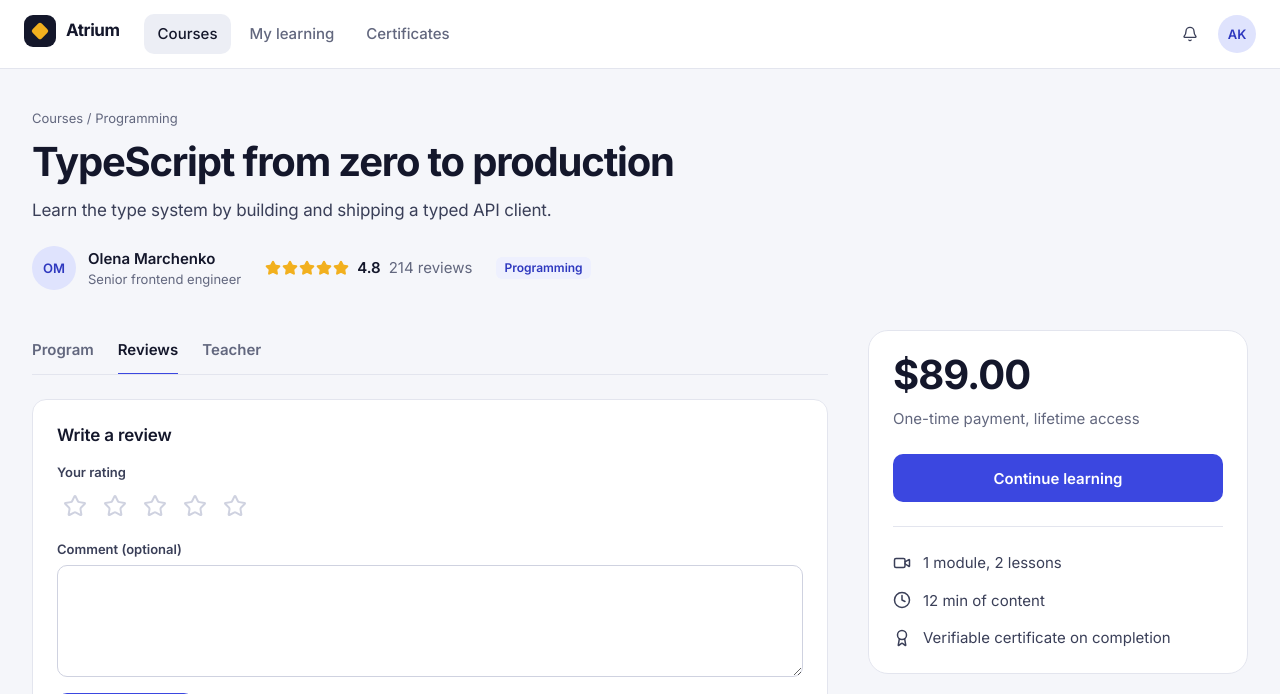
it: course reviews › shows the API message when the student has not started learning
Click the radio button named "4 stars": [195, 506] box [177,488,213,524]
(page scrolled)
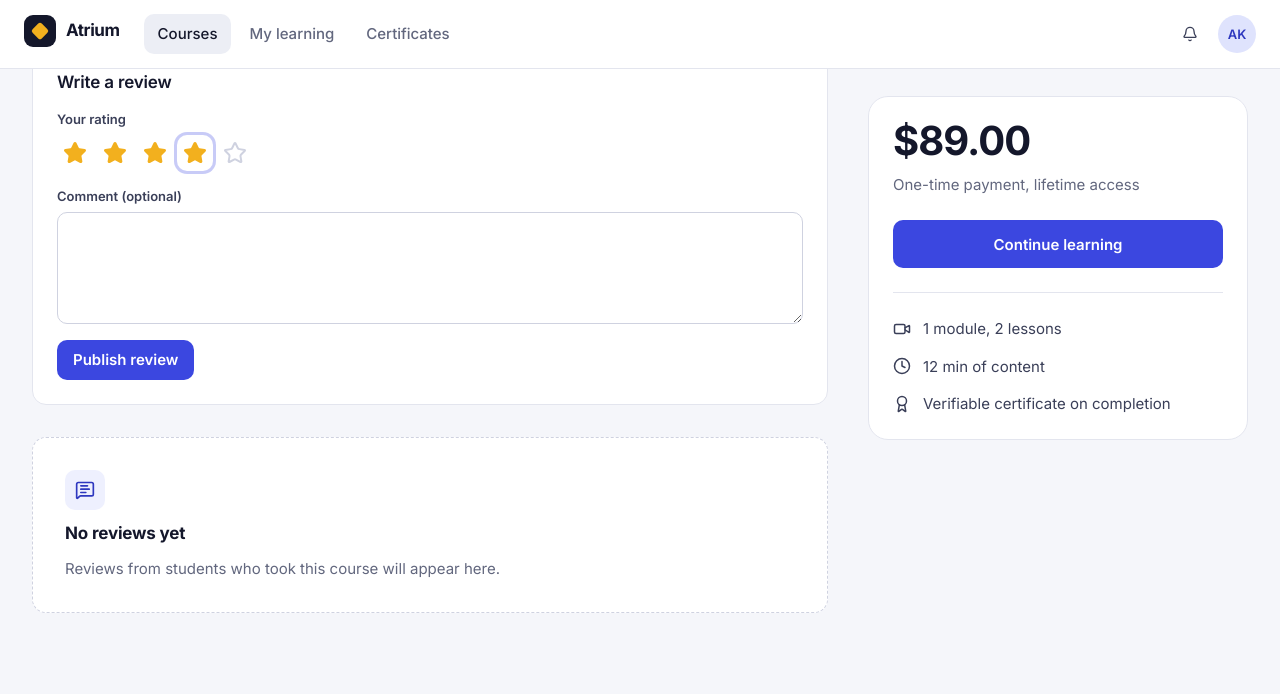
Click the button "Publish review": [126, 360] box [57,340,194,380]
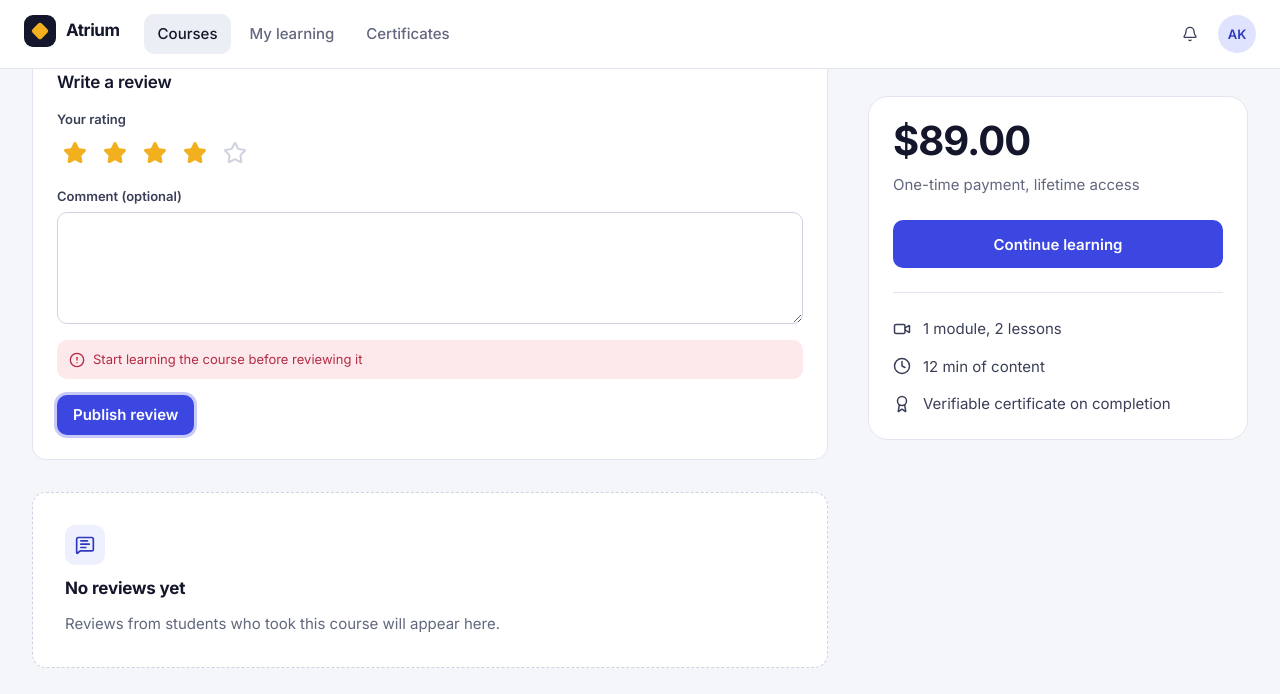
Now the text "Start learning the course before reviewing it" is shown, box [93,350,362,369]
